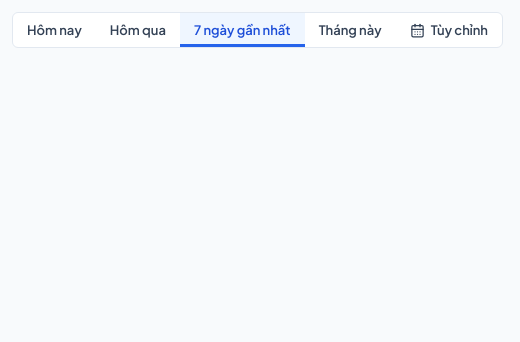
Scenario: Giao diện tiếng Việt và khả năng truy cập › bộ lọc ngày dùng nhãn tiếng Việt và chỉ áp dụng khoảng hợp lệ
What coordinates should you click on to do the following:
click the button "Tùy chỉnh"
I would click on:
 (449, 30)
Its box is [396,13,502,47].
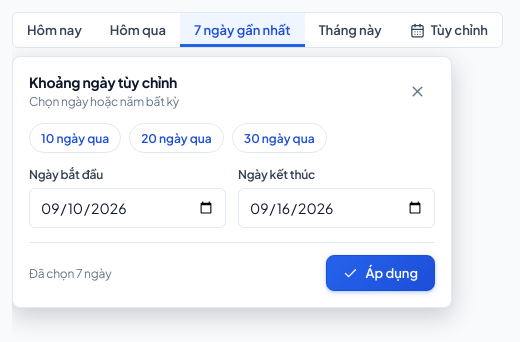
Expected: the text "Khoảng ngày tùy chỉnh" is shown, [29,73,179,91]
Expected: the button "Áp dụng" is enabled, [326,255,435,291]
